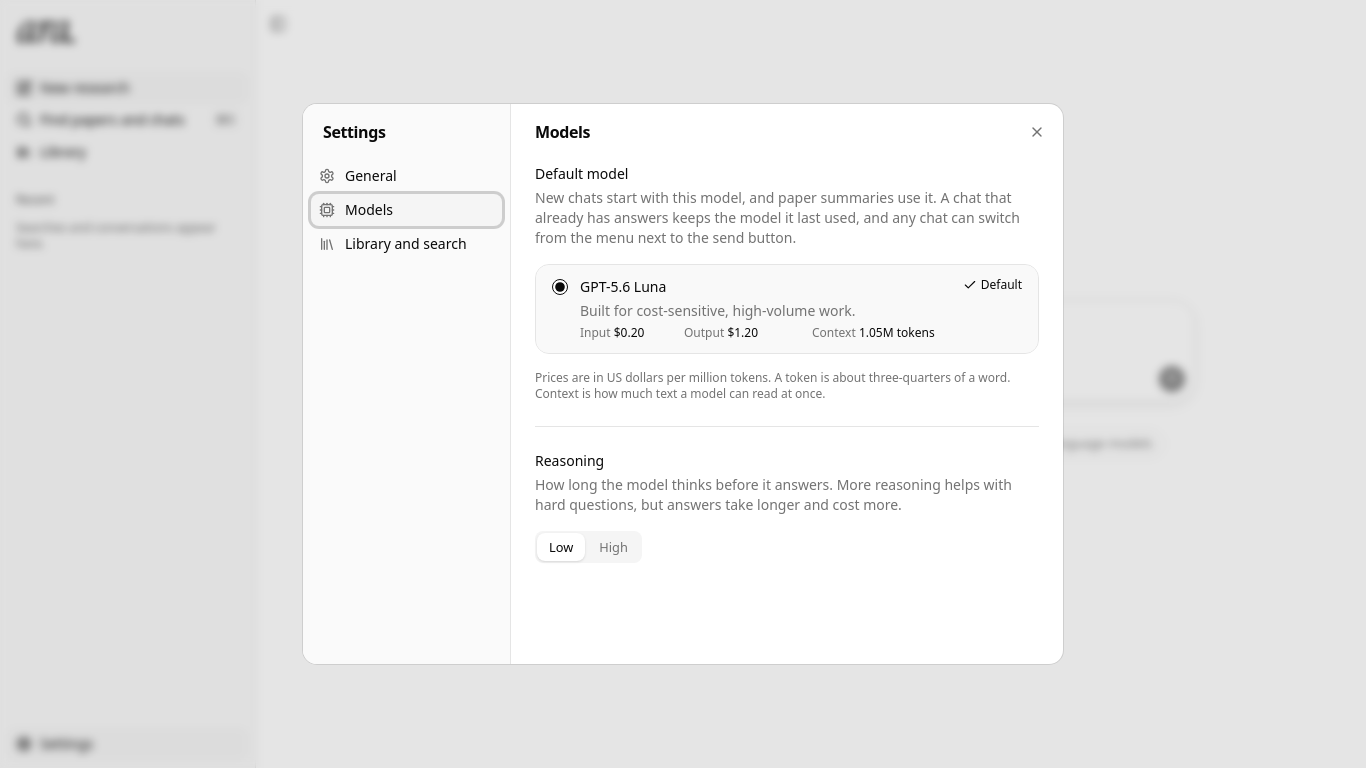
Test: Given a reasoning level, When it is chosen, Then the exact model and level save at once and the section says so
Expected: the text "More reasoning helps with hard questions" is shown, x1=535 y1=475 x2=1012 y2=514
Click the radio button labelled "High" at (614, 547), box x1=587 y1=533 x2=640 y2=561
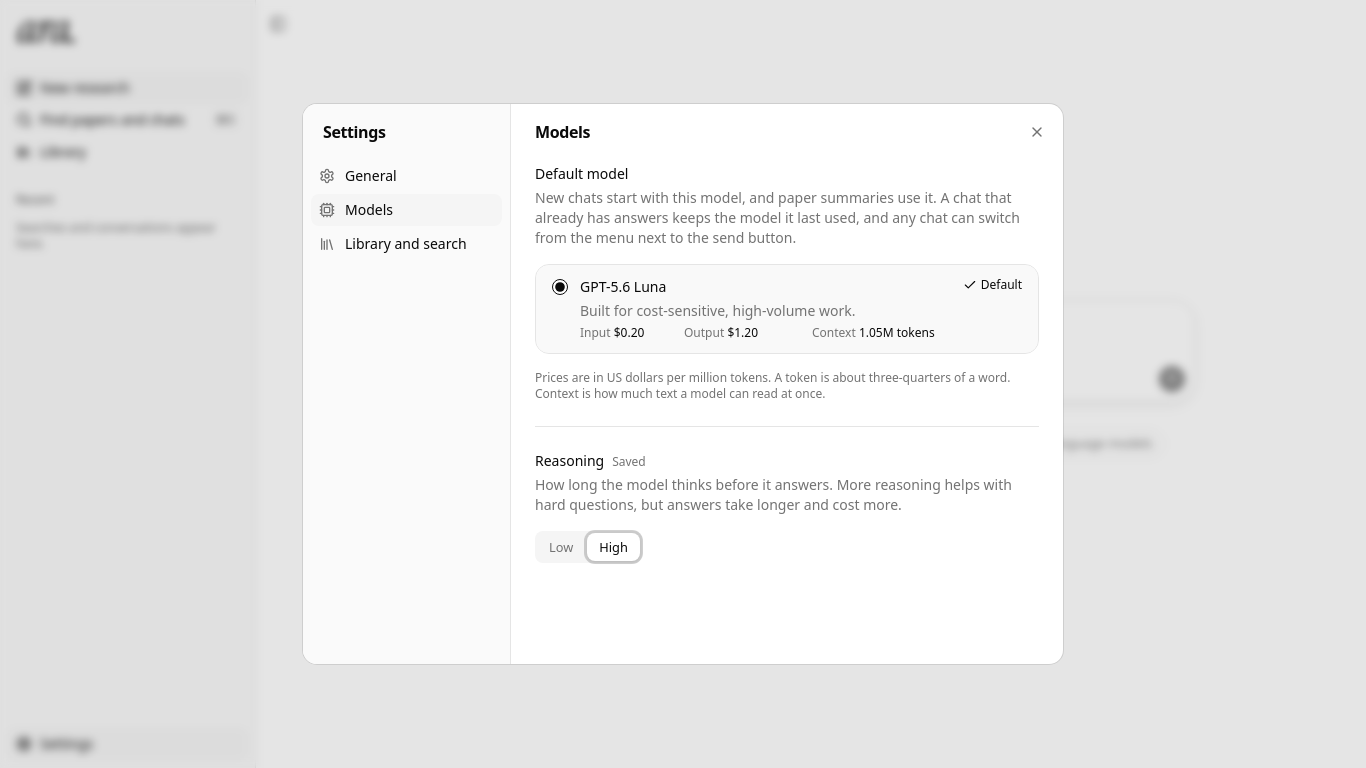
Now the text "Saved" is shown, box x1=612 y1=454 x2=646 y2=470
